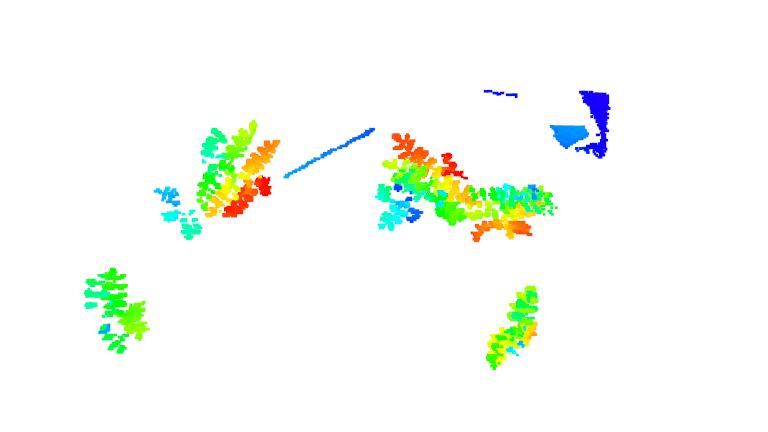chickpea: (372, 131, 477, 233), (196, 120, 283, 218), (81, 266, 151, 355), (461, 184, 559, 243), (483, 283, 544, 372), (156, 185, 203, 241)
